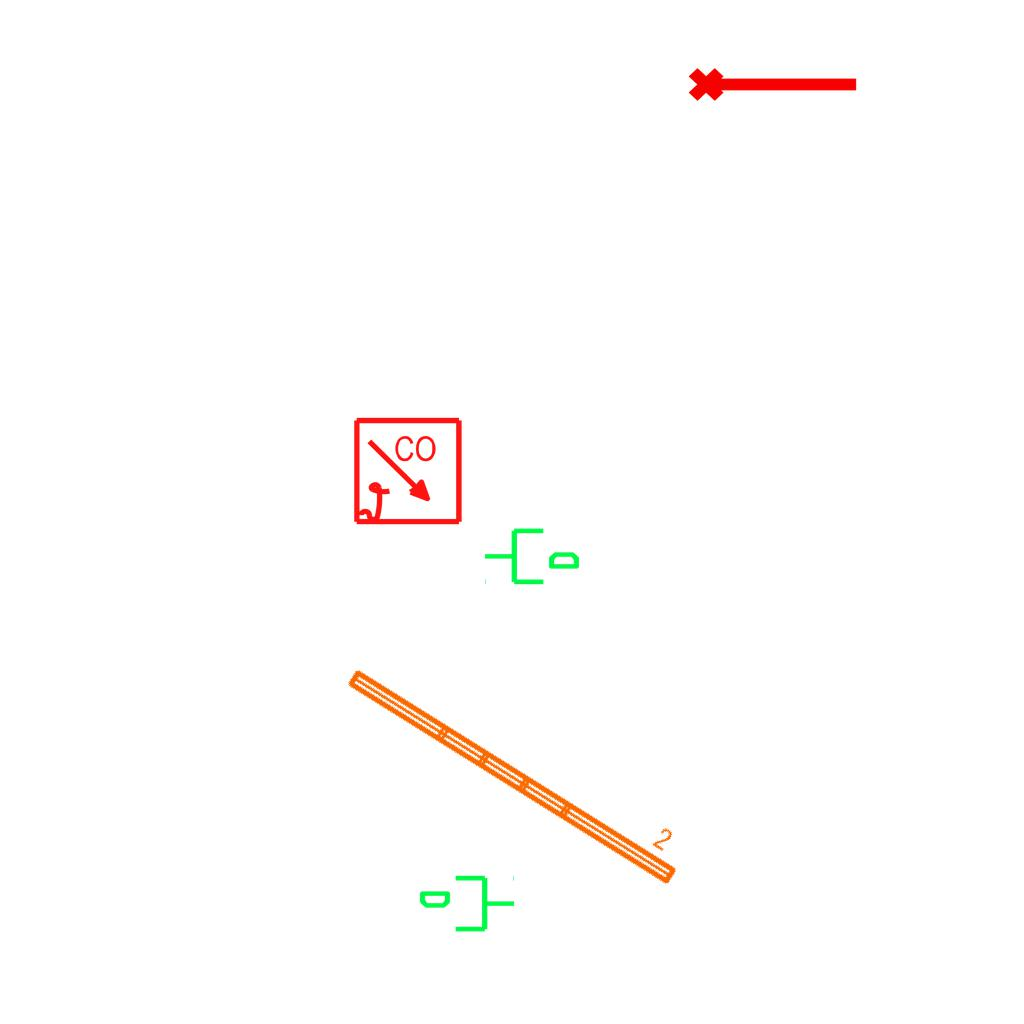ASR_Ansaugoeffnung: (686, 59, 862, 105)
Ambulanz_Pendelleuchte_LED: (339, 639, 698, 893)
Datenanschluss_einfach: (417, 871, 517, 940), (482, 520, 582, 589)
ROA_Rauchmelder_optisch_mit_Signalgeber_(Sockelsirene): (352, 416, 465, 529)
